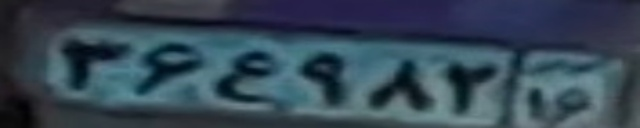1: (526, 86, 546, 118)
2: (447, 61, 495, 114)
3: (61, 37, 127, 92)
6: (139, 41, 199, 96), (551, 87, 594, 121)
8: (368, 58, 430, 109)
9: (302, 49, 346, 104)
ain: (216, 50, 271, 100)
